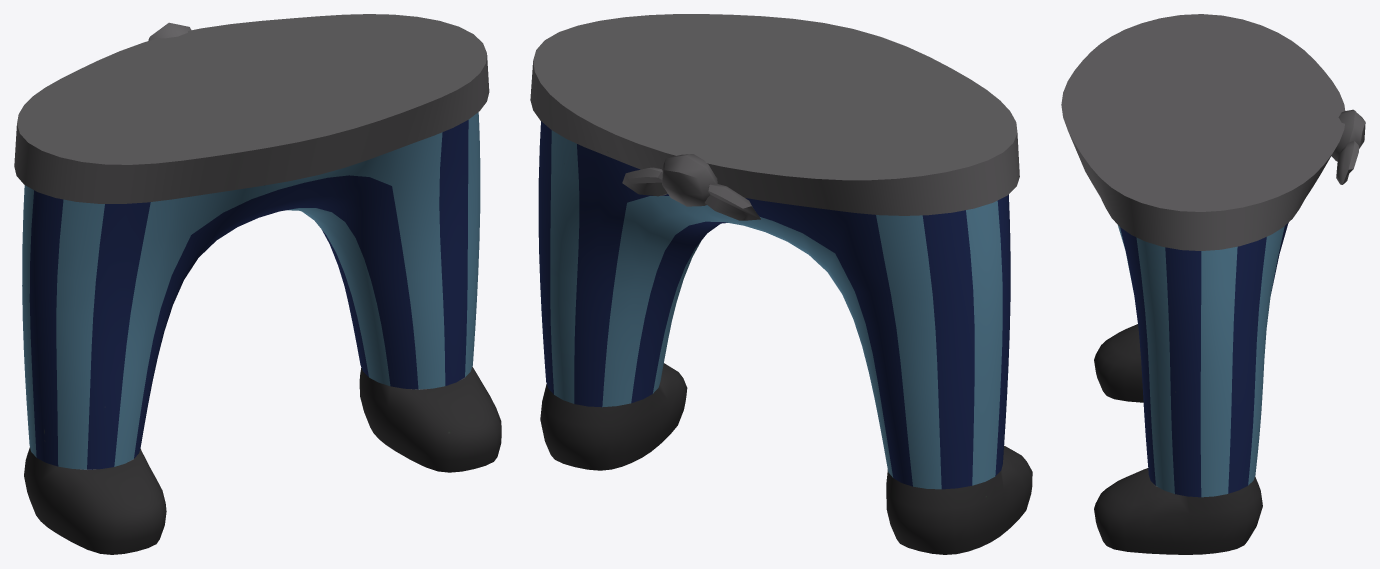
Rendered from 22厨师裤.fbx.
3 views of the same model, side by side, from view 1: azimuth 30°, elevation 25°; view 2: azimuth 150°, elevation 25°; view 3: azimuth 270°, elevation 25° (orthographic). The views are drawn at different scales.
Visible parts, largest first — view 1: 22厨师裤; view 2: 22厨师裤; view 3: 22厨师裤.
Part boxes in pixels (x1,y1,x2,y2): 22厨师裤: [14, 14, 501, 554]; 22厨师裤: [530, 14, 1032, 554]; 22厨师裤: [1061, 14, 1365, 554].
Size of the model in its own units: 0.6267 by 0.516 by 0.3994.
